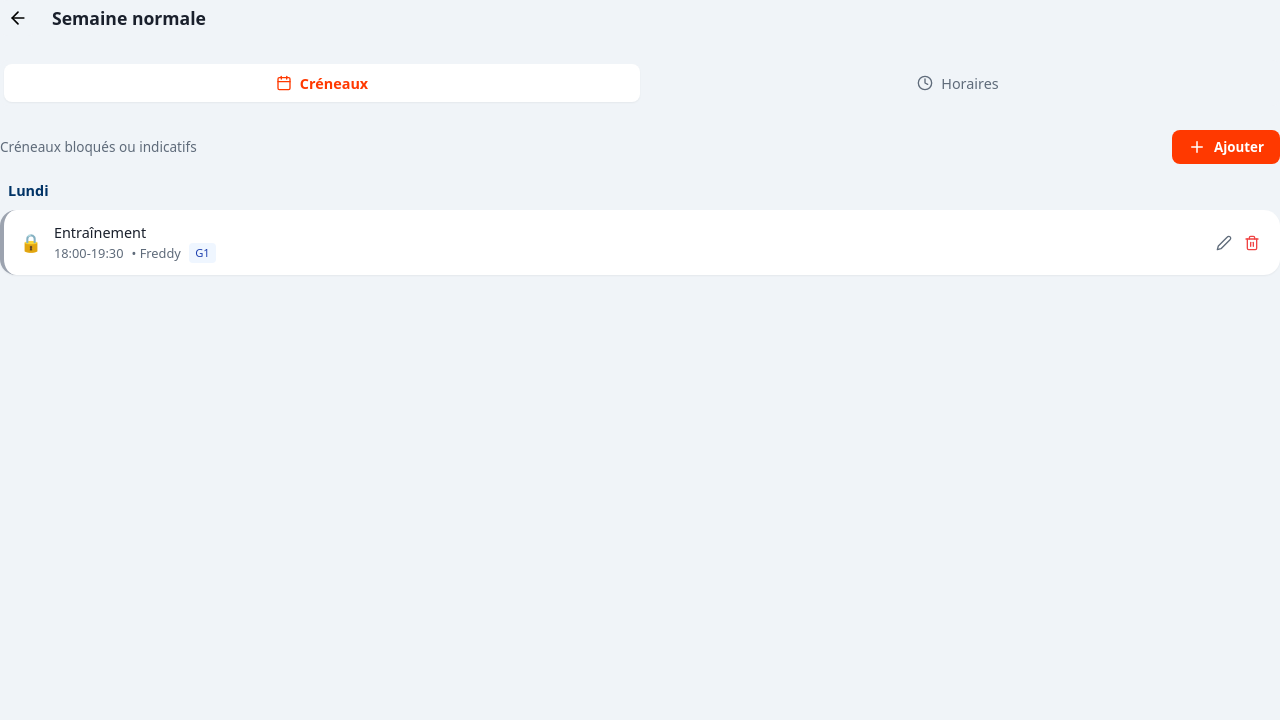
Test: TemplateEditor › ouvre la modal d'ajout d'heure dans l'onglet Horaires
Click the button "Horaires": (958, 83) [640,64,1276,102]
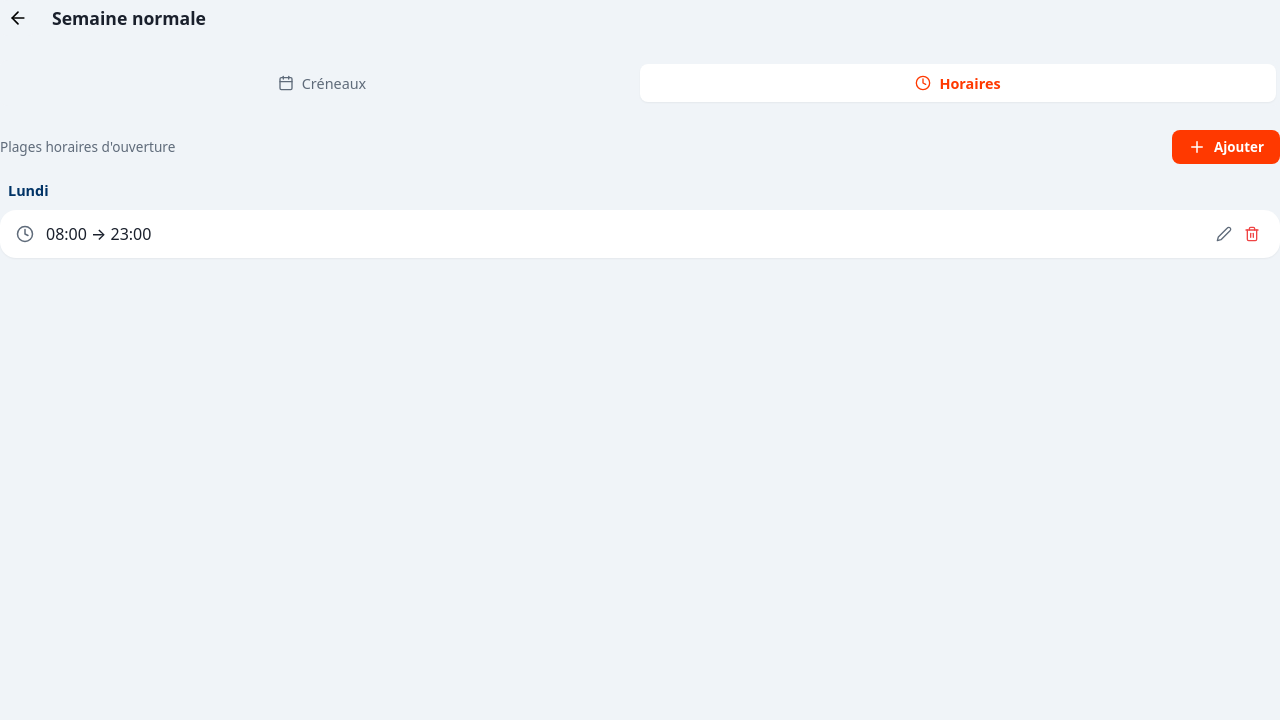
// Le bouton Ajouter existe aussi dans l'onglet Horaires
Click the button "Ajouter": (1226, 147) [1172,130,1279,164]
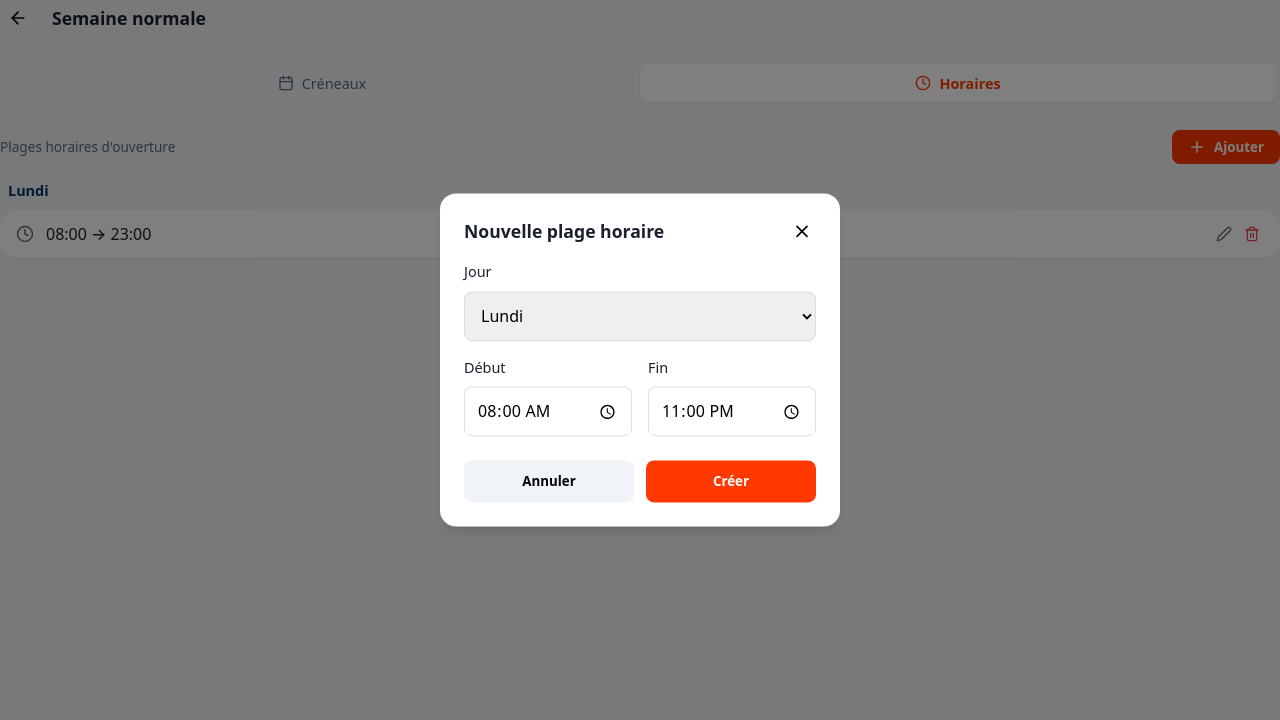
Check: the heading "Nouvelle plage horaire" is shown, box [464,218,664,245]
